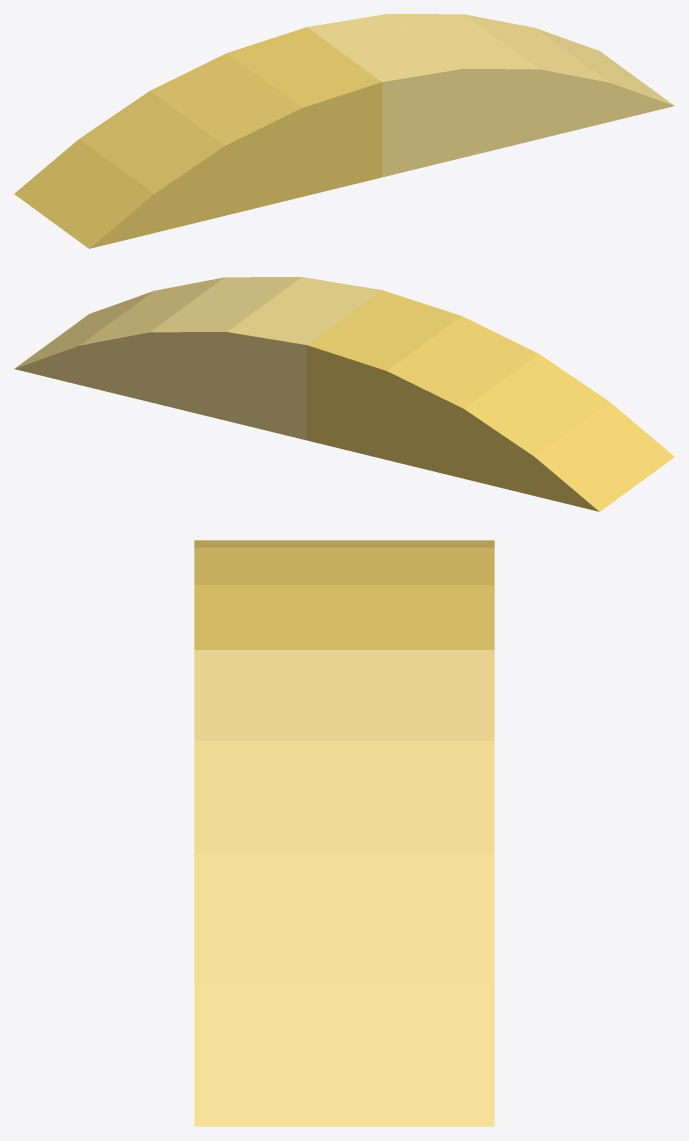
The model's file is island-circle.fbx.
3 renders of one model, top to bottom at view 1: azimuth 30°, elevation 25°; view 2: azimuth 150°, elevation 25°; view 3: azimuth 270°, elevation 25°, orthographic. The views are drawn at different scales.
Parts seen in each view (by area): view 1: Circle; view 2: Circle; view 3: Circle.
Part boxes in pixels (box(x1,y1,x2,y2)): Circle: box(14, 14, 674, 248); Circle: box(14, 277, 674, 511); Circle: box(194, 540, 494, 1126).
Bounding box in the file's own units: 180000 × 28000 × 40000.
